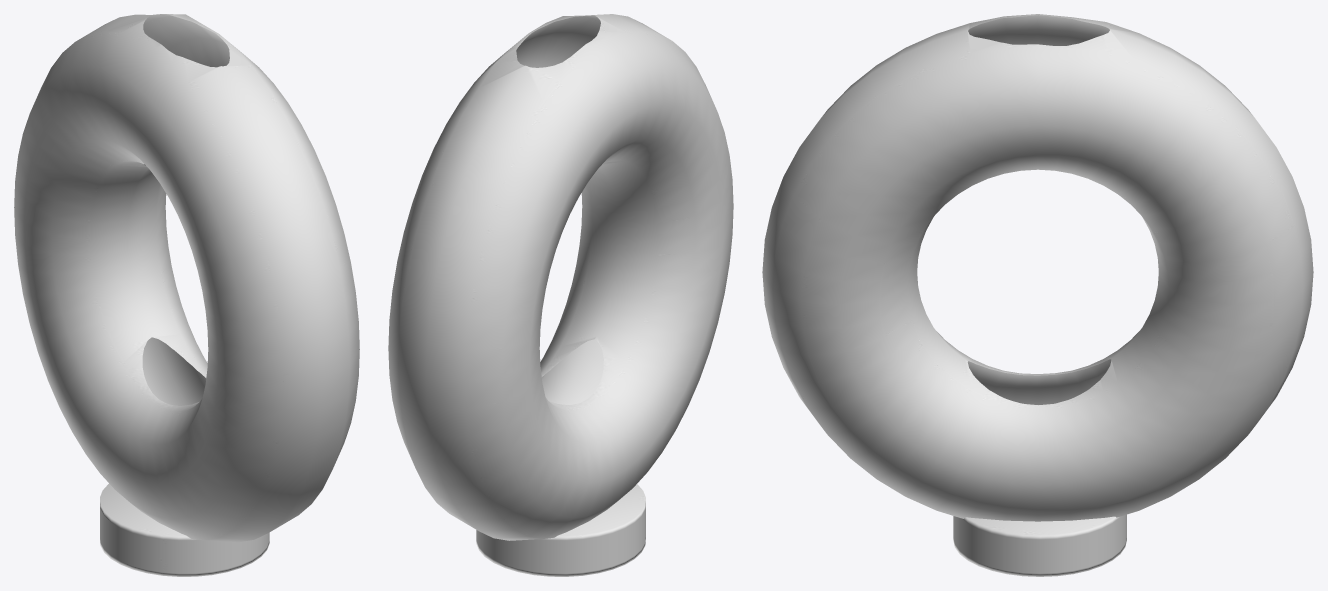
Rendered from DonutVase.glb.
3 renders of one model, left to right at view 1: azimuth 30°, elevation 25°; view 2: azimuth 150°, elevation 25°; view 3: azimuth 270°, elevation 25°, orthographic. The views are drawn at different scales.
Visible parts, largest first — view 1: Cylinder.001; view 2: Cylinder.001; view 3: Cylinder.001.
Part boxes in pixels (left/top/right/bottom): Cylinder.001: left=14, top=14, right=359, bottom=576; Cylinder.001: left=388, top=14, right=733, bottom=576; Cylinder.001: left=762, top=14, right=1313, bottom=576.
Bounding box in the file's own units: 0.0049 × 0.016 × 0.0155.
Materials: 1 (1 with a texture image).
